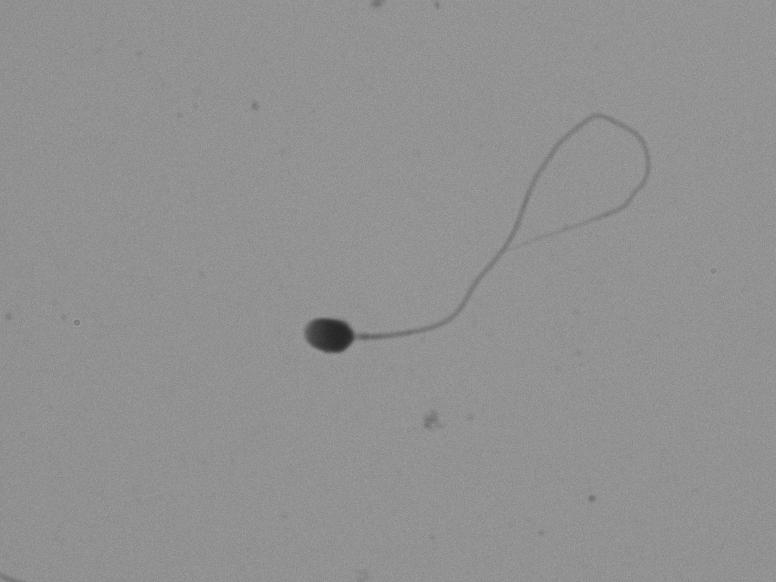Normal: (260, 97, 685, 395)
